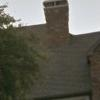Chimney: (37, 1, 76, 41)
